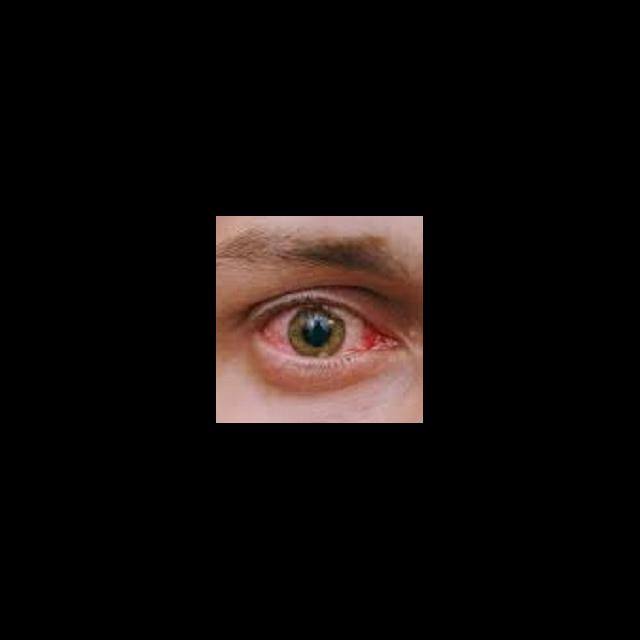eye: (263, 302, 368, 359)
iris: (289, 304, 346, 359)
